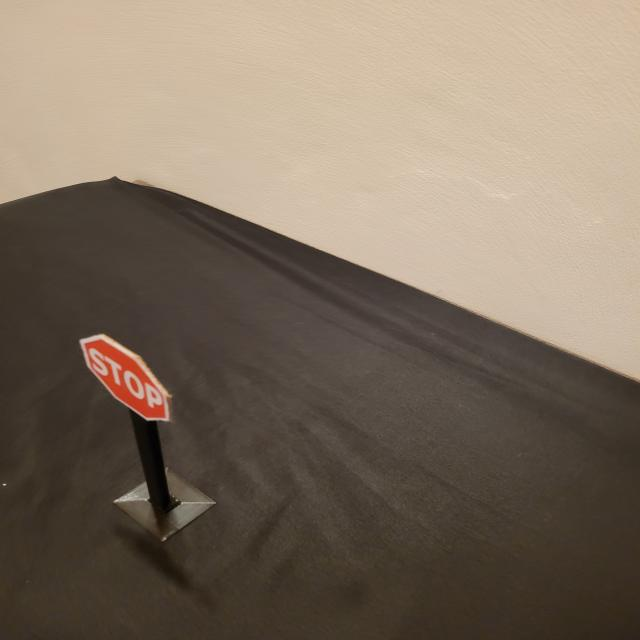stop: (77, 333, 175, 424)
